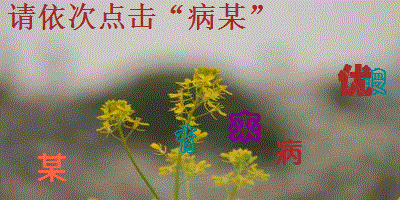result: (185, 2, 248, 33)
text: (225, 108, 264, 145), (336, 62, 372, 100), (34, 151, 69, 185), (273, 136, 305, 168), (356, 66, 388, 98), (174, 122, 199, 156)
